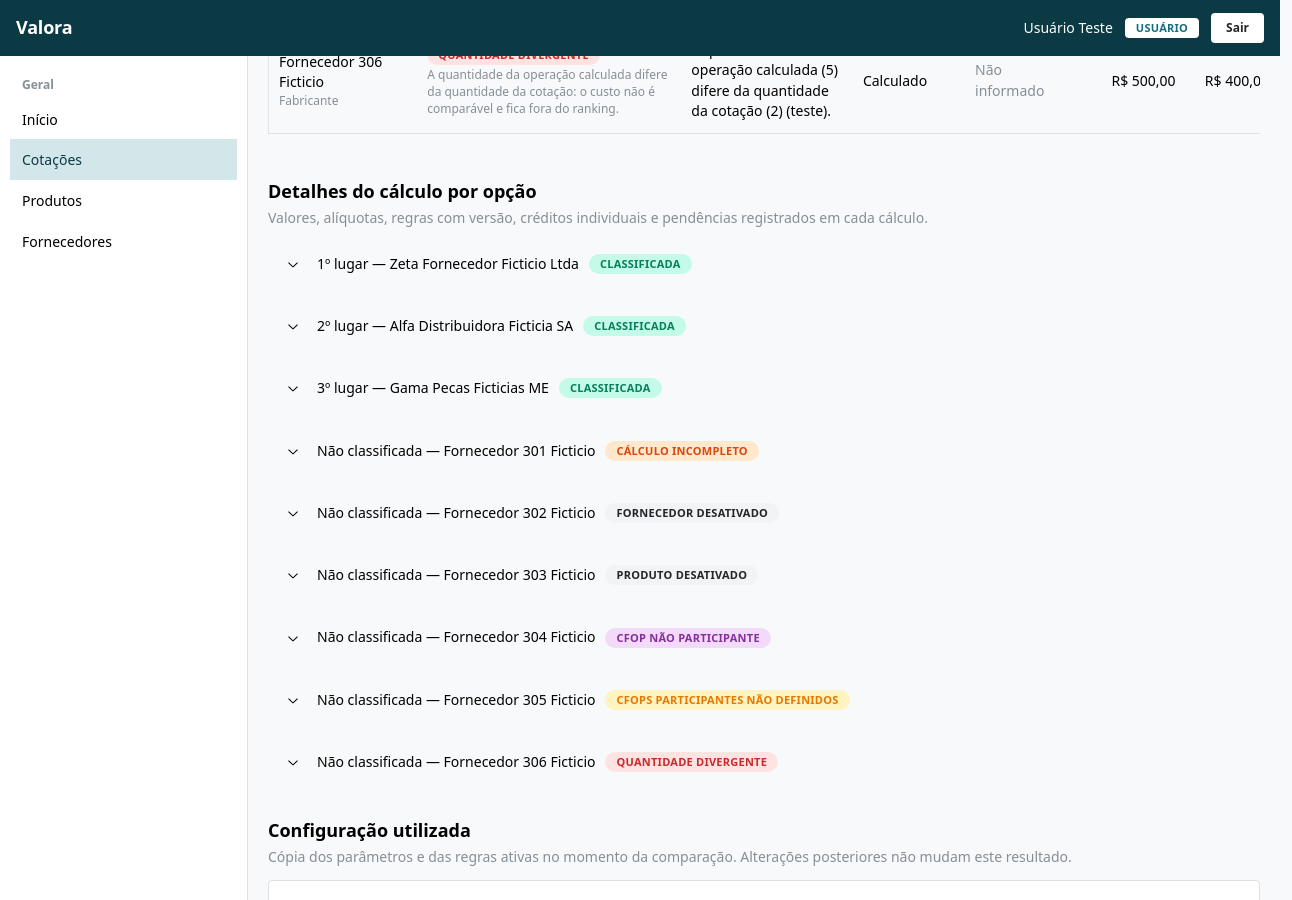
Test: ComparacaoPage — rastreabilidade › mostra as pendências do cálculo incompleto, bloqueantes e avisos
(page scrolled)
Click the button named "Detalhes do cálculo: Não classificada — Fornecedor 301 Ficticio".
click(456, 450)  # box x1=269 y1=428 x2=1259 y2=473
(page scrolled)
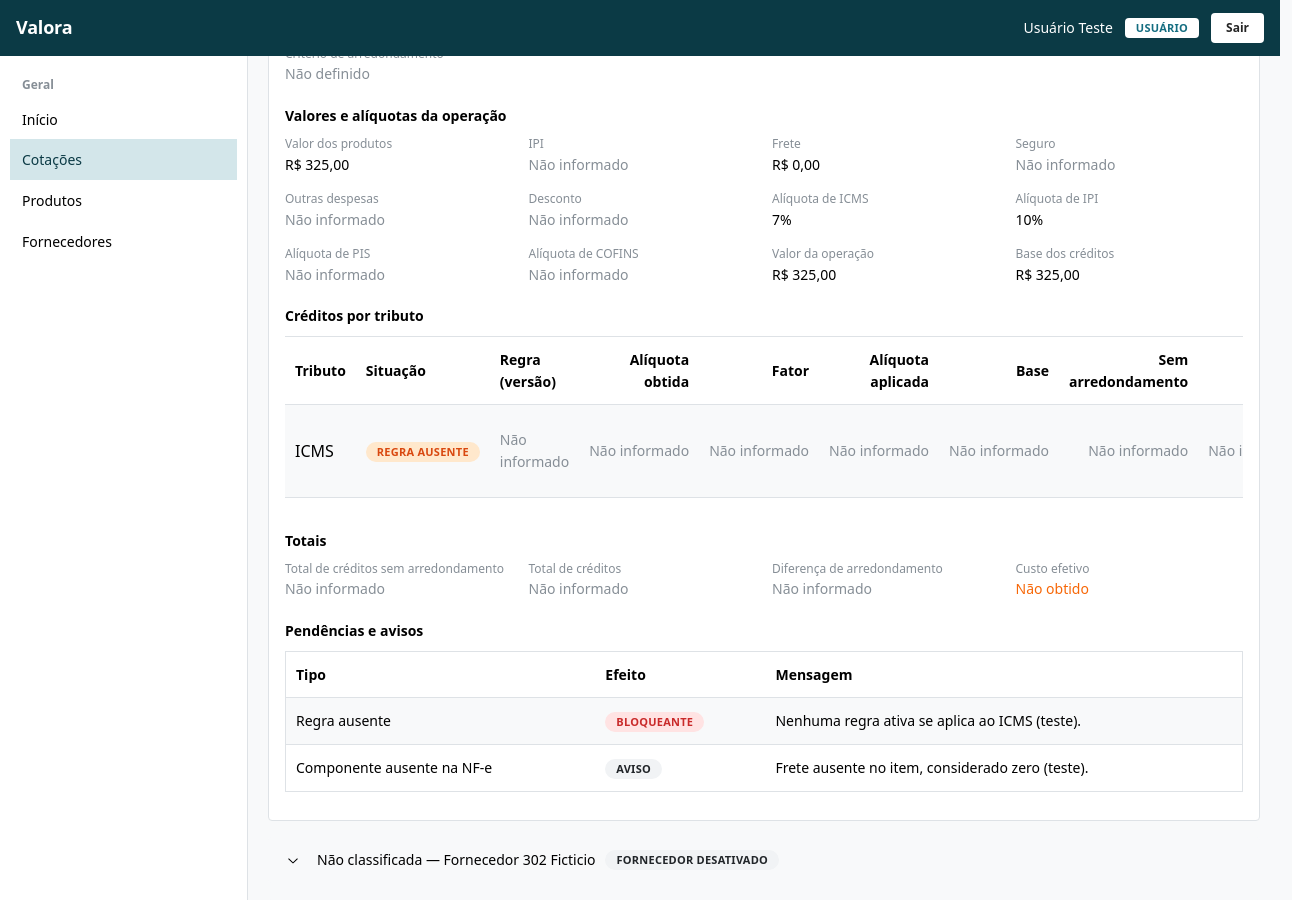
Now the row that starts with "Regra ausente" is shown, box x1=296 y1=712 x2=391 y2=730
Now the row that starts with "Regra ausente" shows "Bloqueante", box x1=616 y1=714 x2=693 y2=729
Now the row that starts with "Regra ausente" shows "Nenhuma regra ativa se aplica ao ICMS (teste).", box x1=775 y1=712 x2=1081 y2=730
